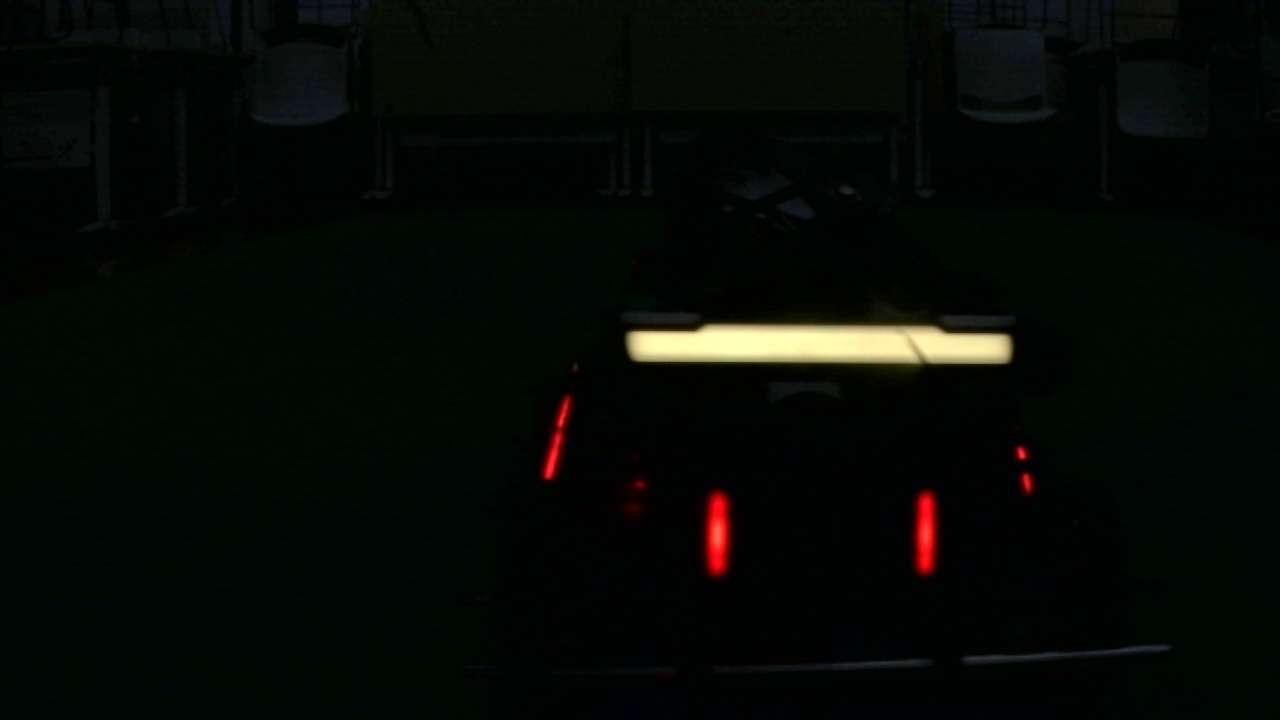lamp: (700, 479, 733, 579), (910, 483, 940, 578)
pair1: (700, 483, 940, 583)
